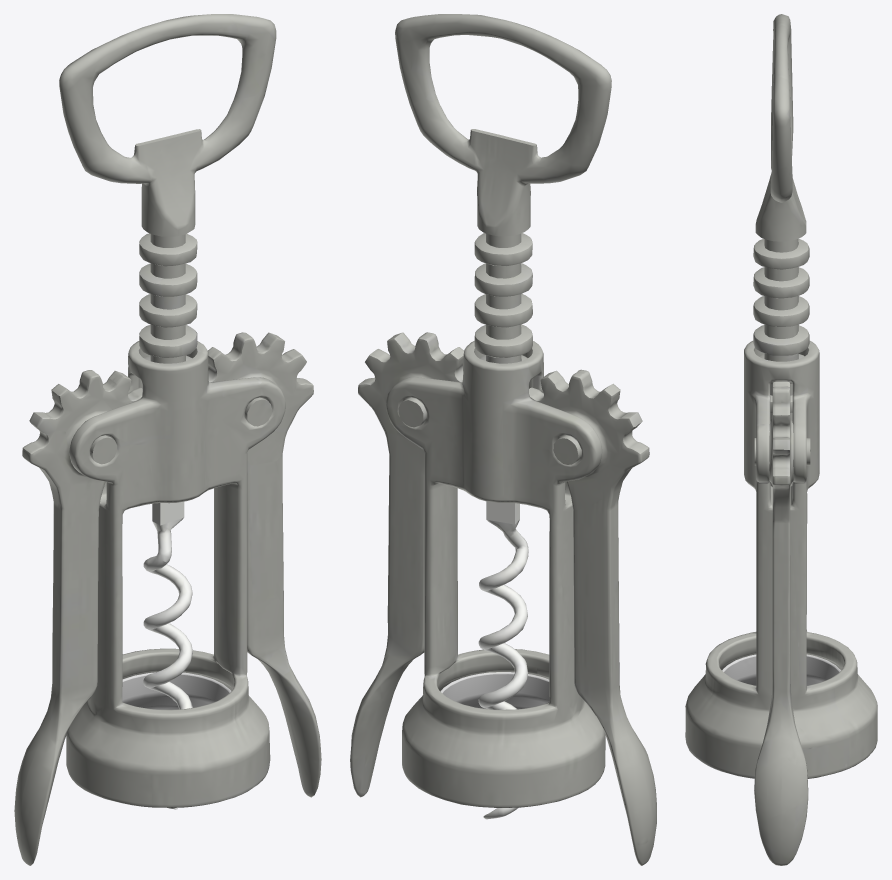
Rendered from IDEALISK Tire-bouchon, couleur argent-mat.glb.
The picture shows the model from 3 angles, left to right: view 1: azimuth 30°, elevation 25°; view 2: azimuth 150°, elevation 25°; view 3: azimuth 270°, elevation 25°; orthographic projection. The views are drawn at different scales.
Parts seen in each view (by area): view 1: model; view 2: model; view 3: model.
Part boxes in pixels (left/top/right/bottom): model: left=14, top=14, right=321, bottom=865; model: left=350, top=14, right=656, bottom=865; model: left=685, top=14, right=877, bottom=865.
Size of the model in its own units: 0.0637 by 0.1667 by 0.038.
Materials: 1 (1 with a texture image).
